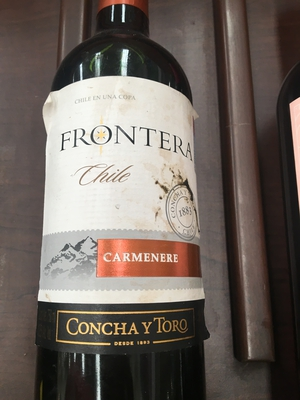frontera carmenere: (18, 7, 223, 400)
